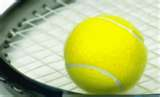tennis ball: (63, 11, 146, 91)
